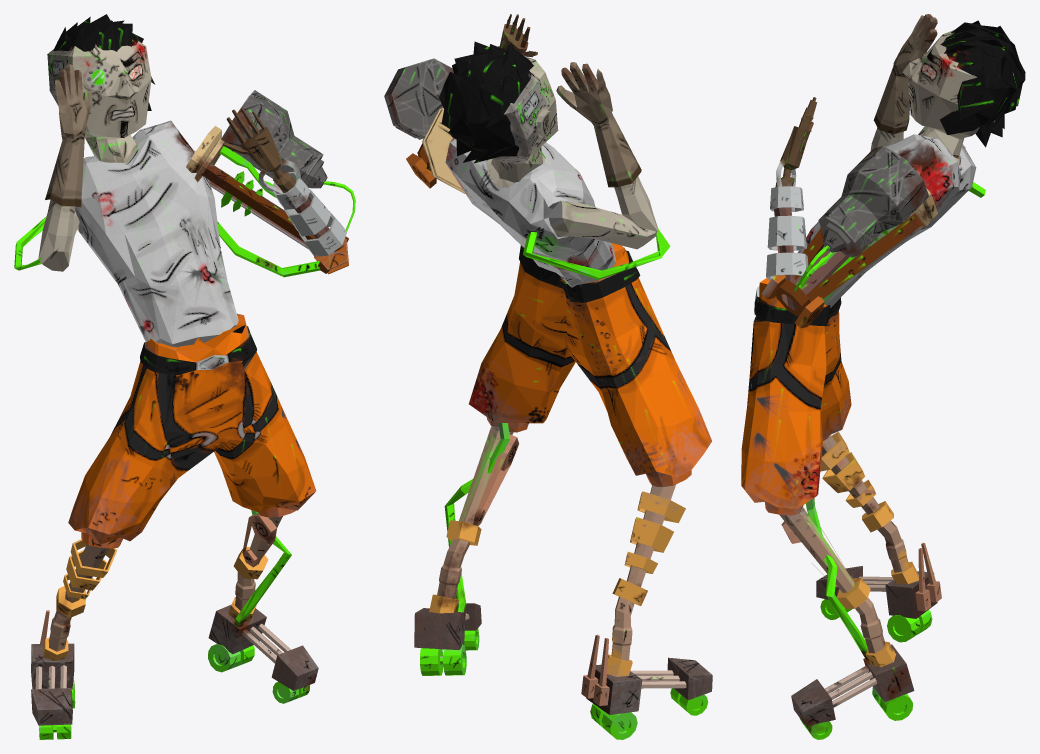
The model's file is CyborgFINALAnimation_000011.obj.
The picture shows the model from 3 angles, left to right: view 1: azimuth 30°, elevation 25°; view 2: azimuth 150°, elevation 25°; view 3: azimuth 270°, elevation 25°; orthographic projection. The views are drawn at different scales.
Visible parts, largest first — view 1: CyborgMesh_Cube.002; view 2: CyborgMesh_Cube.002; view 3: CyborgMesh_Cube.002.
Boxes of the visible parts, bbox=[...] form: CyborgMesh_Cube.002: bbox=[14, 14, 355, 739]; CyborgMesh_Cube.002: bbox=[384, 14, 712, 739]; CyborgMesh_Cube.002: bbox=[741, 14, 1025, 739].
Bounding box in the file's own units: 4.32 × 8.82 × 3.48.
